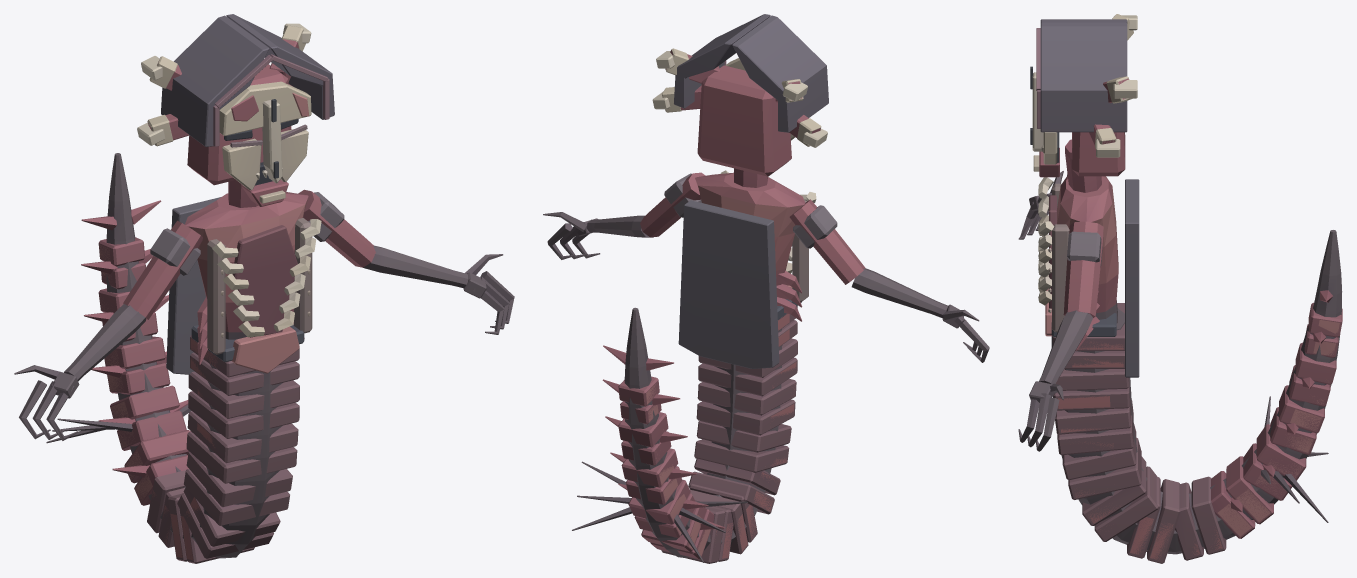
File: DredgeAssassin.glb
3 renders of one model, left to right at view 1: azimuth 30°, elevation 25°; view 2: azimuth 150°, elevation 25°; view 3: azimuth 270°, elevation 25°, orthographic. The views are drawn at different scales.
Visible parts, largest first — view 1: Body, Head, ArmR, ArmL; view 2: Body, Head, ArmR, ArmL; view 3: Body, Head, ArmL, ArmR.
Part boxes in pixels (x1,y1,x2,y2): Body: (46,153,321,563); Head: (137,14,334,207); ArmR: (14,220,202,440); ArmL: (298,189,514,334); Body: (572,170,816,563); Head: (652,14,828,187); ArmR: (789,199,989,362); ArmL: (543,172,705,259); Body: (1038,176,1342,563); Head: (1030,14,1137,192); ArmL: (1018,221,1103,451); ArmR: (1018,171,1067,239).
Bounding box in the file's own units: 6.83 × 7.3 × 4.04.
